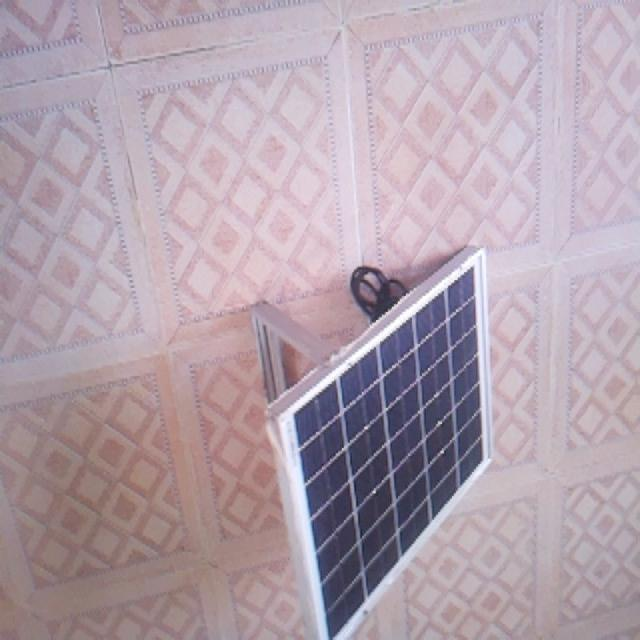Normal Solar Panel: (294, 268, 485, 639)
